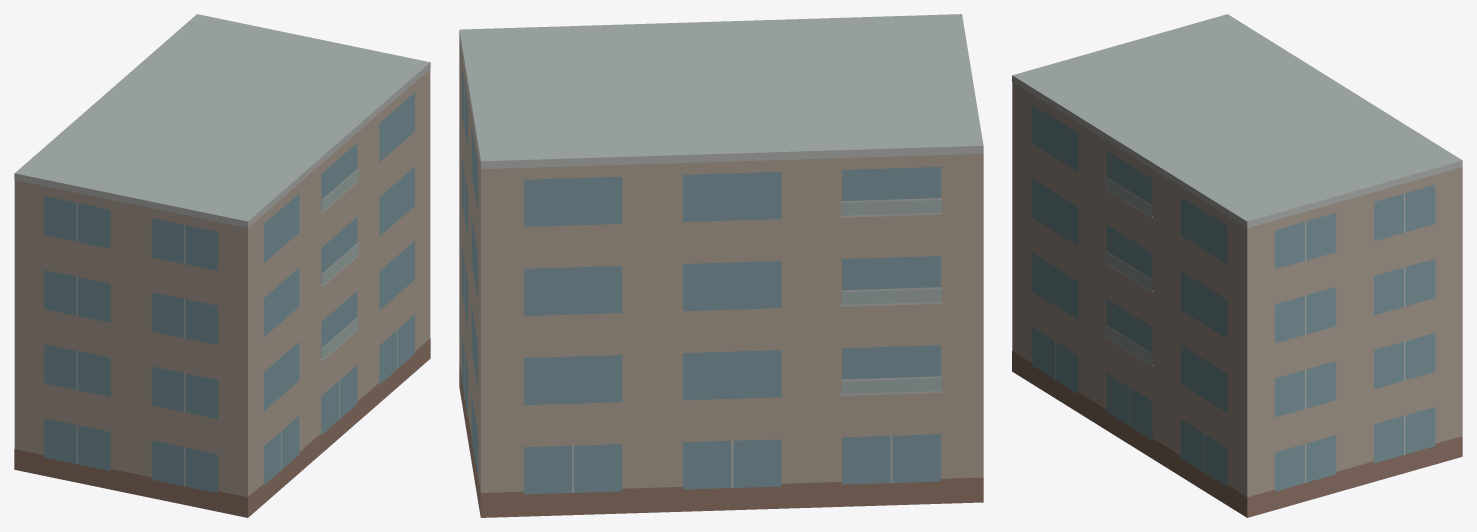
File: survey-upis-32805080.glb
The picture shows the model from 3 angles, left to right: view 1: azimuth 30°, elevation 25°; view 2: azimuth 150°, elevation 25°; view 3: azimuth 270°, elevation 25°; orthographic projection. The views are drawn at different scales.
Parts seen in each view (by area): view 1: survey-upis-32805080.tmp; view 2: survey-upis-32805080.tmp; view 3: survey-upis-32805080.tmp.
Boxes of the visible parts, box(x1,y1,x2,y2) form: survey-upis-32805080.tmp: box(14, 14, 430, 517); survey-upis-32805080.tmp: box(459, 14, 983, 517); survey-upis-32805080.tmp: box(1012, 14, 1462, 517).
Size of the model in its own units: 16.55 by 11 by 15.17.
